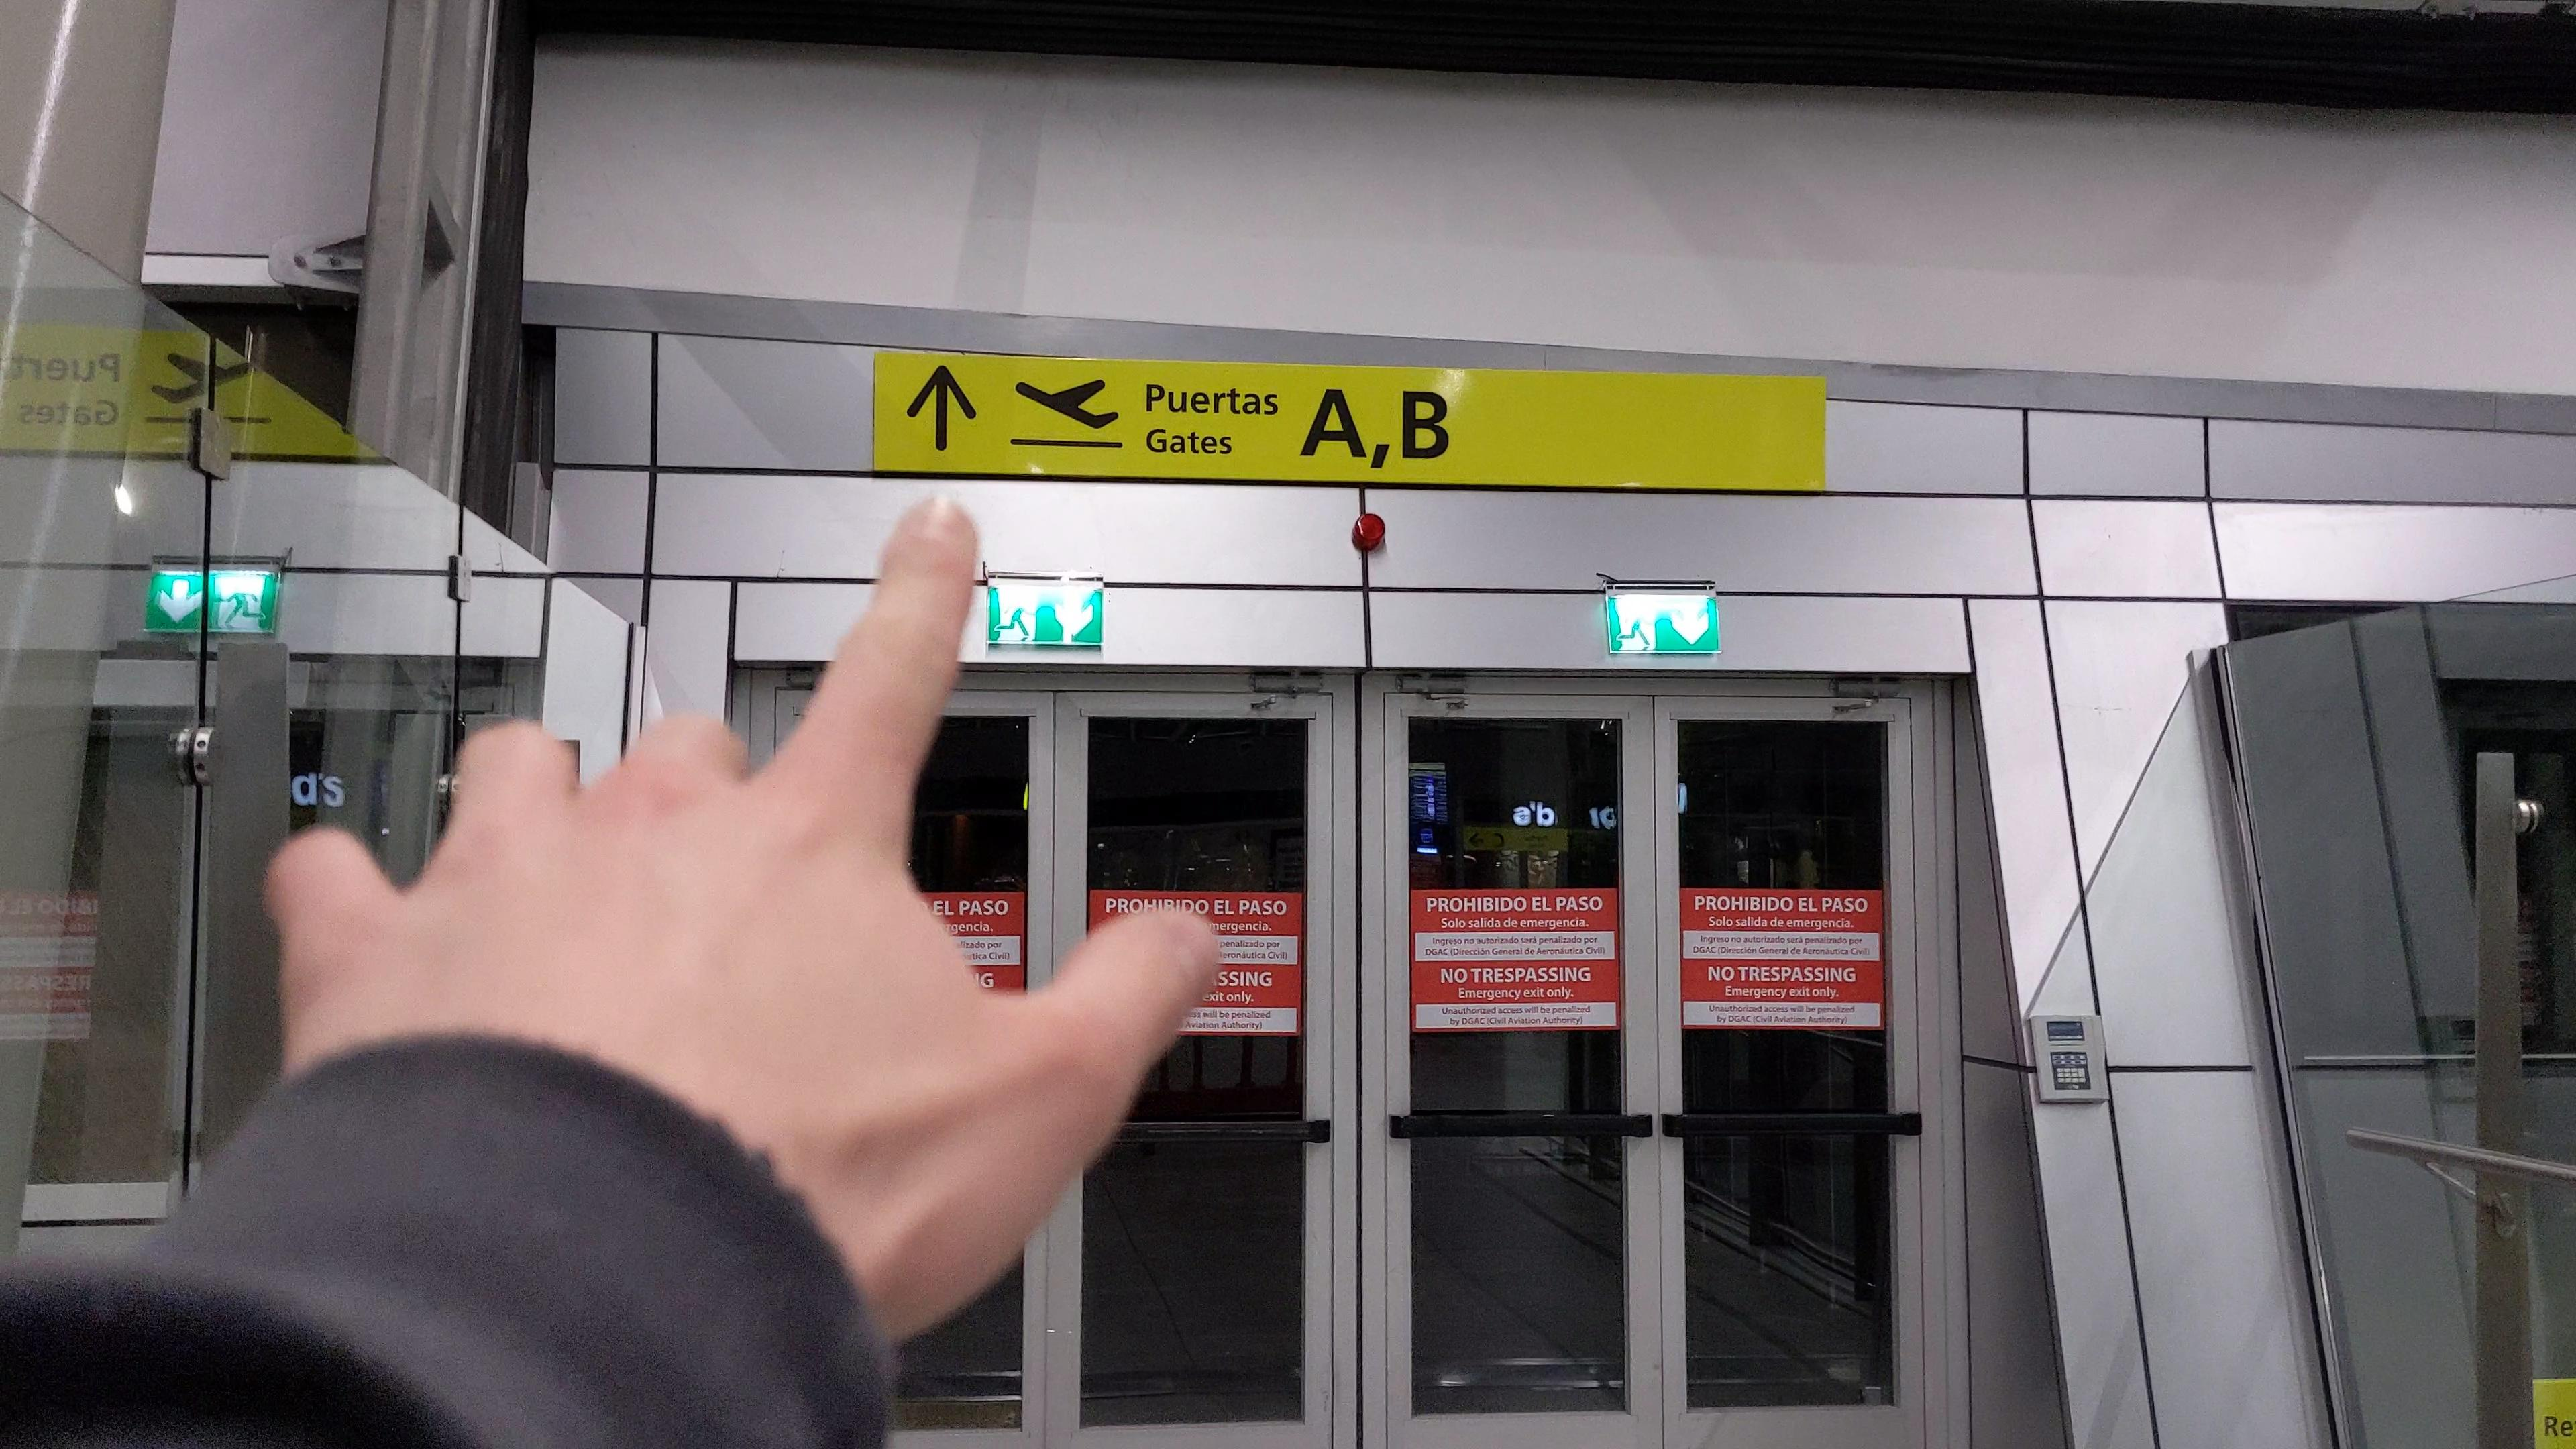airplane symbol: (1010, 373, 1129, 439)
emergency down arrow: (156, 579, 214, 621), (1668, 612, 1723, 651), (1053, 593, 1095, 637)
emergency exit: (202, 575, 264, 623), (1614, 600, 1658, 653), (994, 602, 1044, 642)
no trespassing: (1414, 888, 1619, 1031), (1679, 888, 1882, 1028), (1214, 893, 1302, 1030), (916, 893, 1023, 1000)
thin up arrow: (904, 372, 994, 437)
